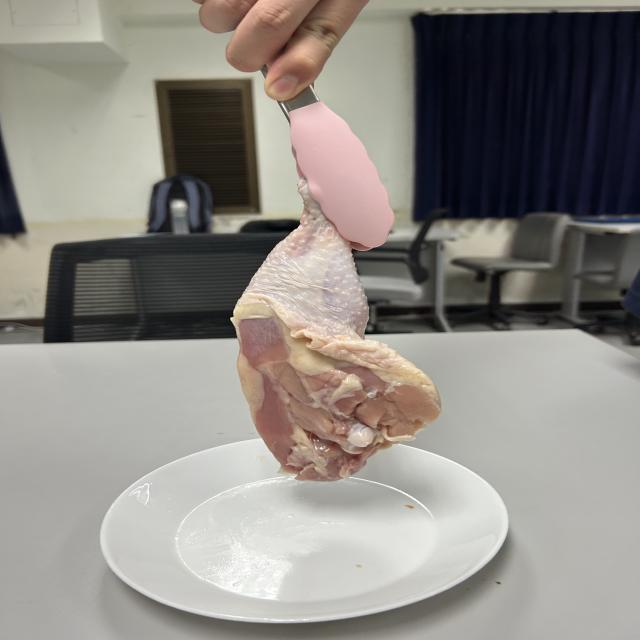quater: (250, 150, 428, 473)
